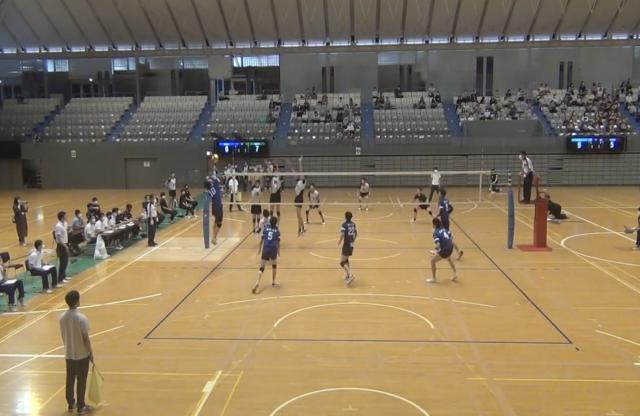spike: (200, 150, 230, 248)
